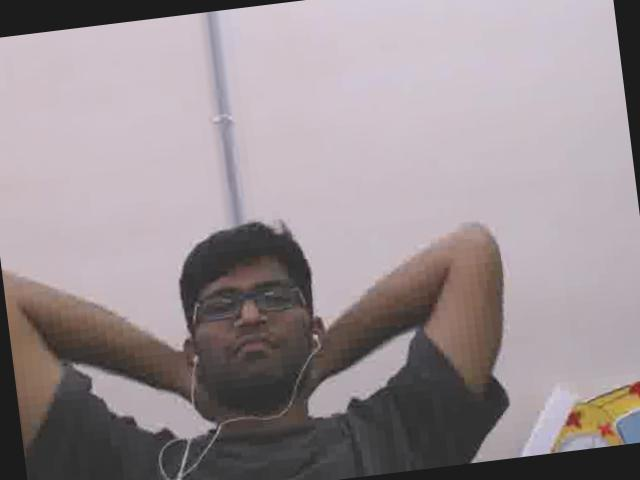bosan: (189, 252, 312, 388)
